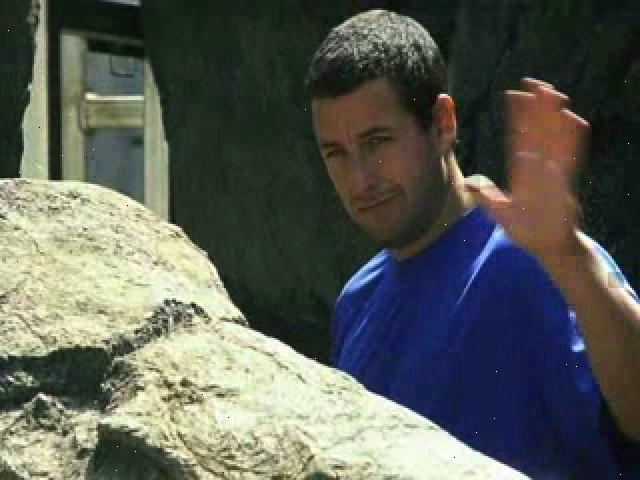L: (299, 3, 639, 480)
